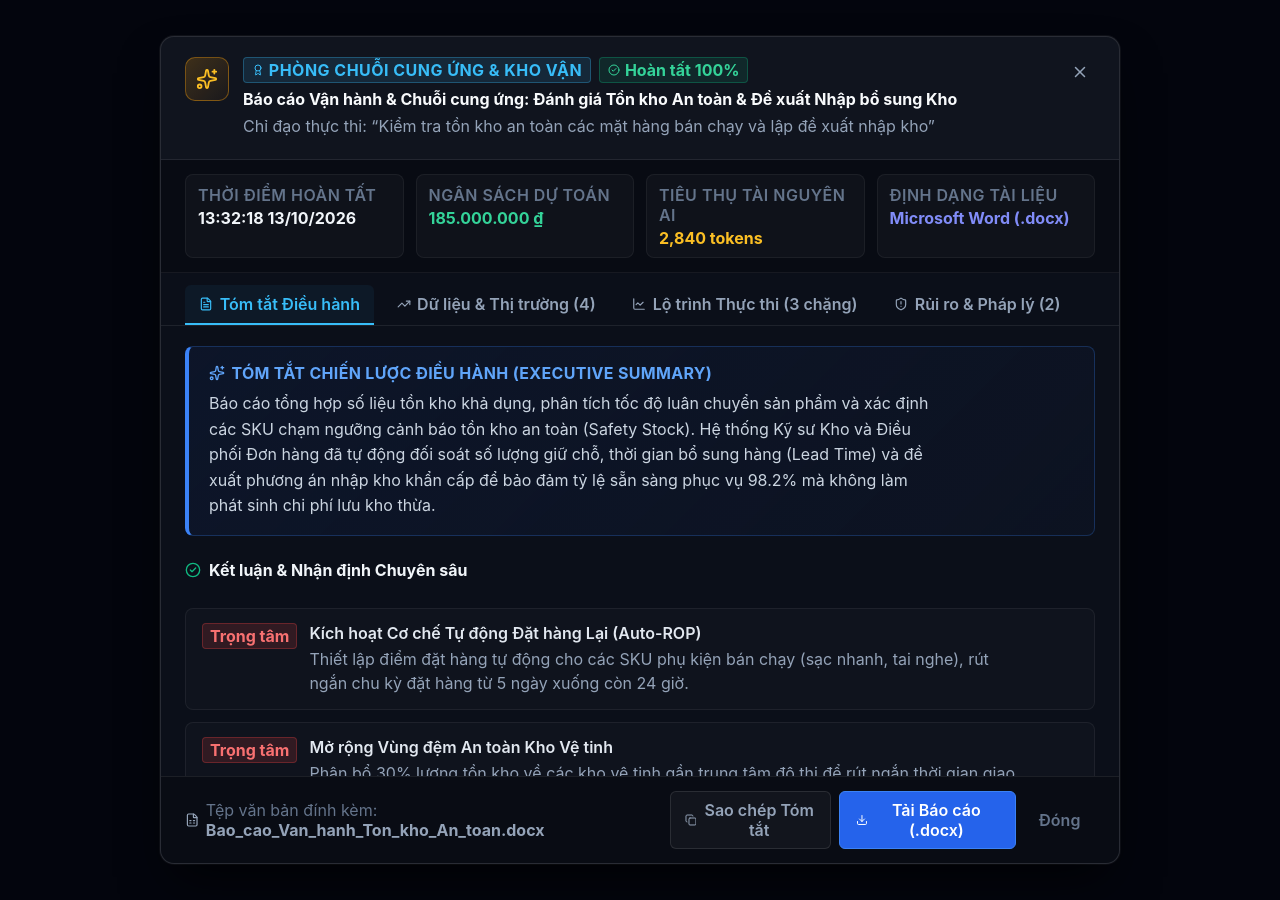
Test: StrategicDeliverableModal › builds and renders Operations & Supply Chain deliverable with inventory metrics
The image size is (1280, 900).
Expected: the text "Phòng Chuỗi cung ứng & Kho vận" is shown, left=243, top=57, right=591, bottom=83
Expected: the heading "Tóm tắt Chiến lược Điều hành (Executive Summary)" is shown, left=231, top=363, right=712, bottom=383
Click the button "Dữ liệu & Thị trường (4)" at point(496, 305), box left=382, top=285, right=610, bottom=325
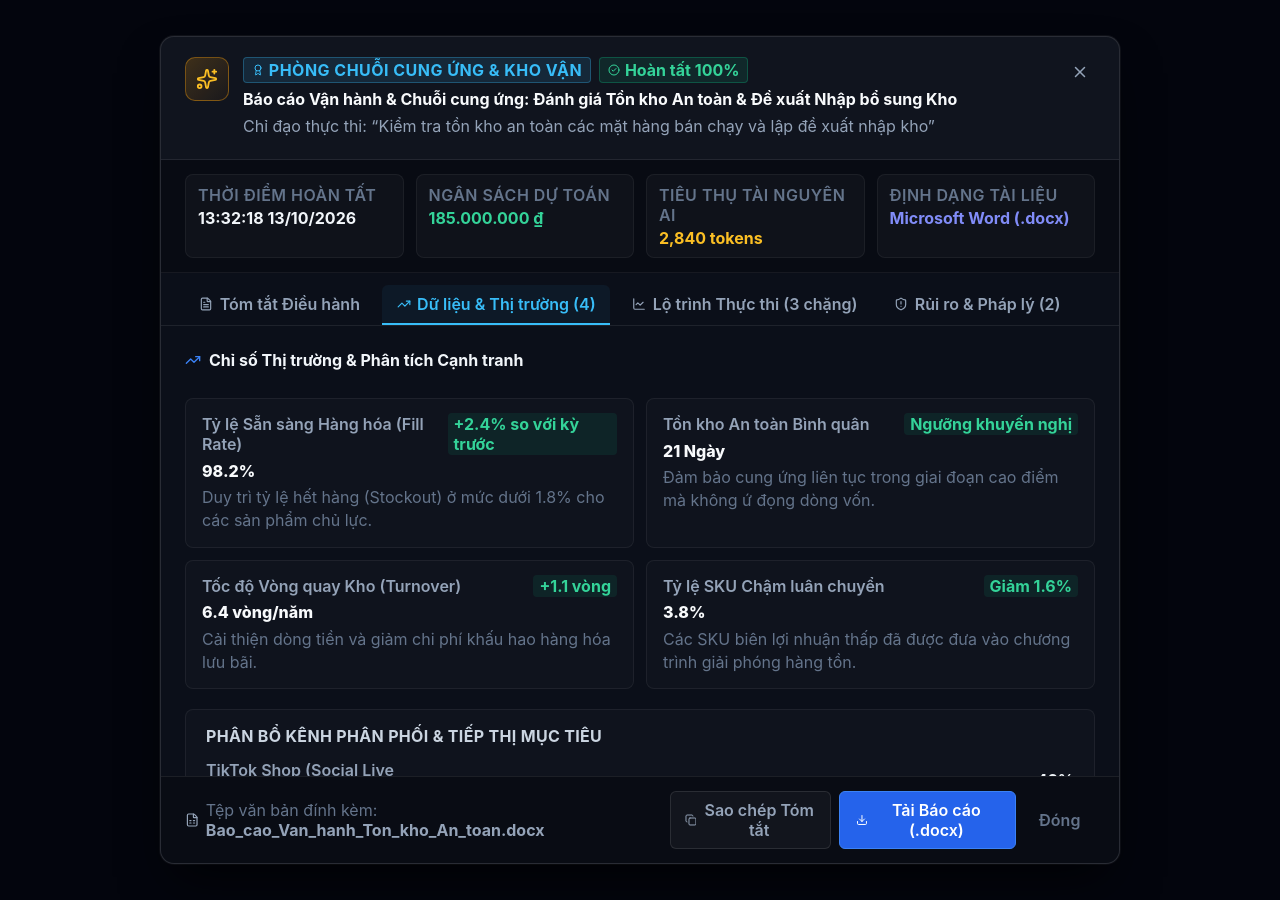
Expected: the text "98.2%" is shown, left=202, top=460, right=255, bottom=480
Expected: the text "Tỷ lệ Sẵn sàng Hàng hóa (Fill Rate)" is shown, left=202, top=414, right=448, bottom=454
